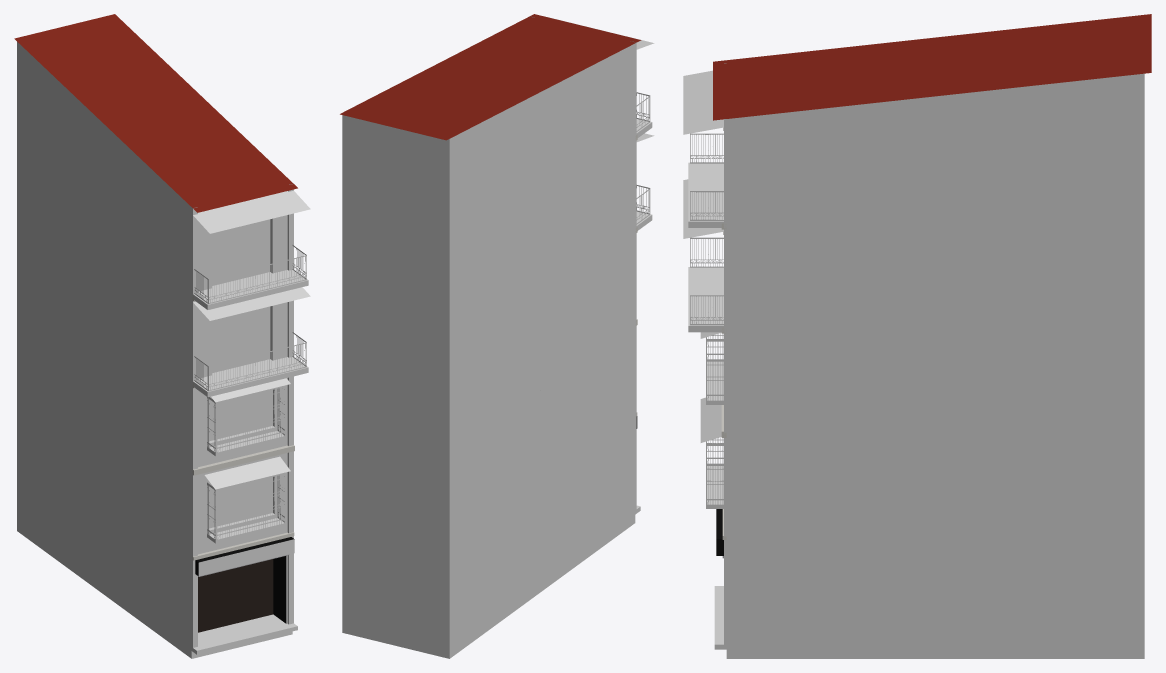
The picture shows the model from 3 angles, left to right: view 1: azimuth 30°, elevation 25°; view 2: azimuth 150°, elevation 25°; view 3: azimuth 270°, elevation 25°; orthographic projection. The views are drawn at different scales.
Visible parts, largest first — view 1: TH_D12_C_11_LOD0; view 2: TH_D12_C_11_LOD0; view 3: TH_D12_C_11_LOD0.
Part boxes in pixels (x1=…): TH_D12_C_11_LOD0: x1=14, y1=14, x2=310, y2=658; TH_D12_C_11_LOD0: x1=340, y1=14, x2=654, y2=658; TH_D12_C_11_LOD0: x1=683, y1=14, x2=1151, y2=658.
Size of what is drawn, in the model's own units: 4 by 18.56 by 13.45.
